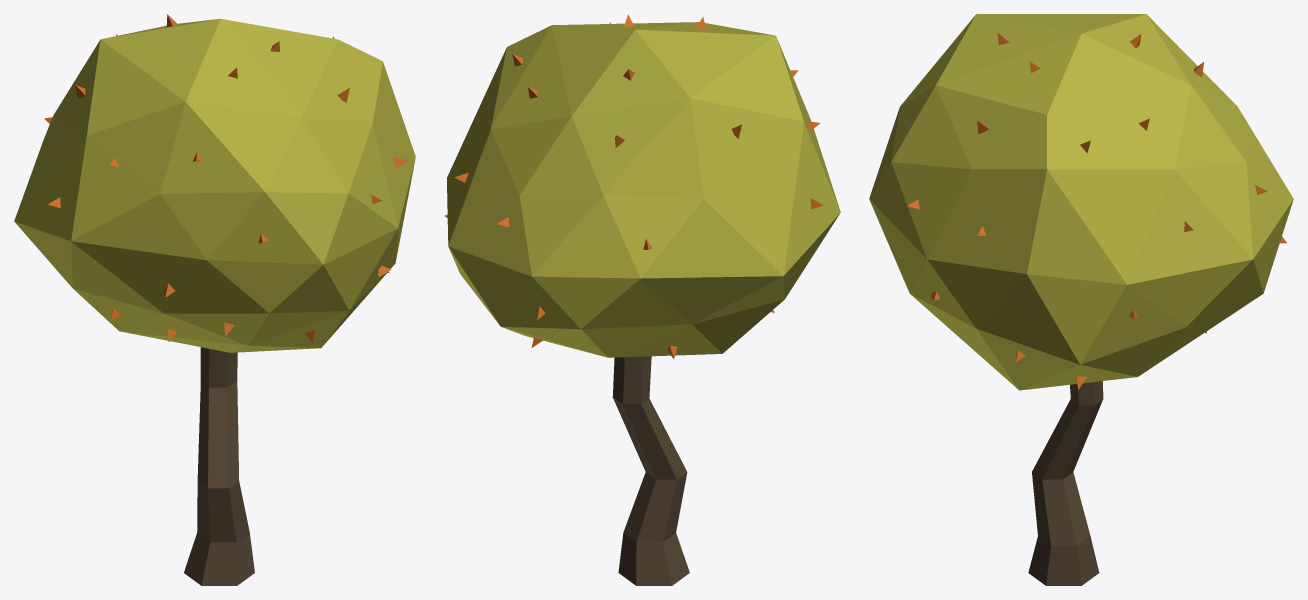
File: Tree_4_Yellow.fbx
3 views of the same model, side by side, from view 1: azimuth 30°, elevation 25°; view 2: azimuth 150°, elevation 25°; view 3: azimuth 270°, elevation 25° (orthographic).
Visible parts, largest first — view 1: Tree_4_Yellow_Part_2, Tree_4_Yellow_Part_1, Tree_4_Yellow_Part_3; view 2: Tree_4_Yellow_Part_2, Tree_4_Yellow_Part_1, Tree_4_Yellow_Part_3; view 3: Tree_4_Yellow_Part_2, Tree_4_Yellow_Part_1, Tree_4_Yellow_Part_3.
Part boxes in pixels (x1,y1,x2,y2): Tree_4_Yellow_Part_2: [14, 18, 415, 352]; Tree_4_Yellow_Part_1: [184, 347, 254, 585]; Tree_4_Yellow_Part_3: [44, 14, 407, 343]; Tree_4_Yellow_Part_2: [447, 22, 840, 357]; Tree_4_Yellow_Part_1: [612, 356, 689, 585]; Tree_4_Yellow_Part_3: [444, 14, 823, 358]; Tree_4_Yellow_Part_2: [869, 14, 1293, 390]; Tree_4_Yellow_Part_1: [1028, 381, 1103, 585]; Tree_4_Yellow_Part_3: [907, 33, 1286, 389].
Size of the model in its own units: 339 by 507 by 358.
